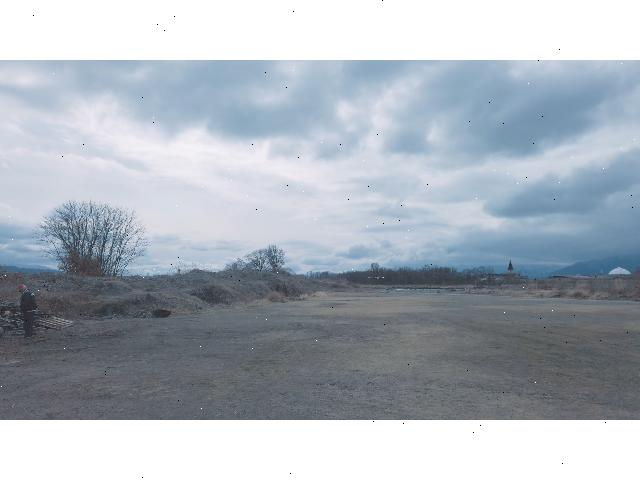Anti-Drone: (366, 274, 386, 283)
